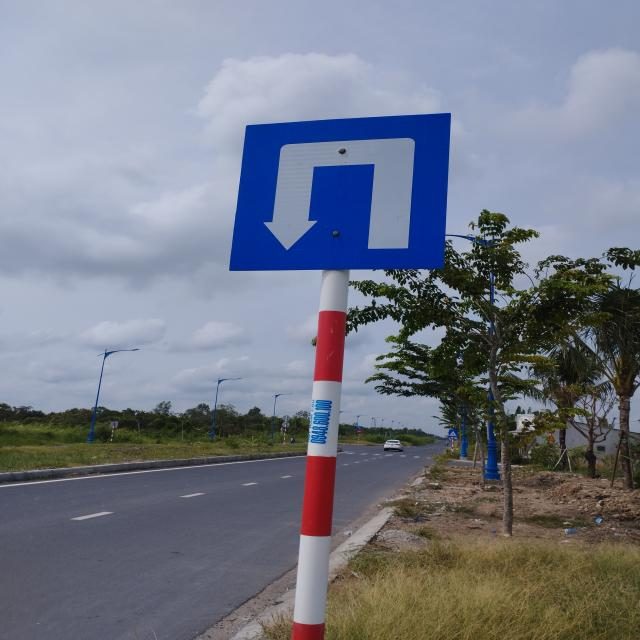Den_Giao_Thong: (230, 110, 452, 270)
